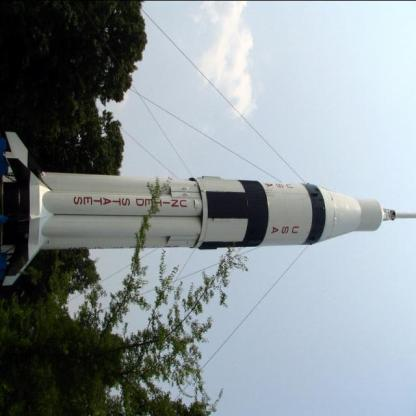MIL_TBM: (19, 166, 398, 260), (34, 211, 214, 241)
